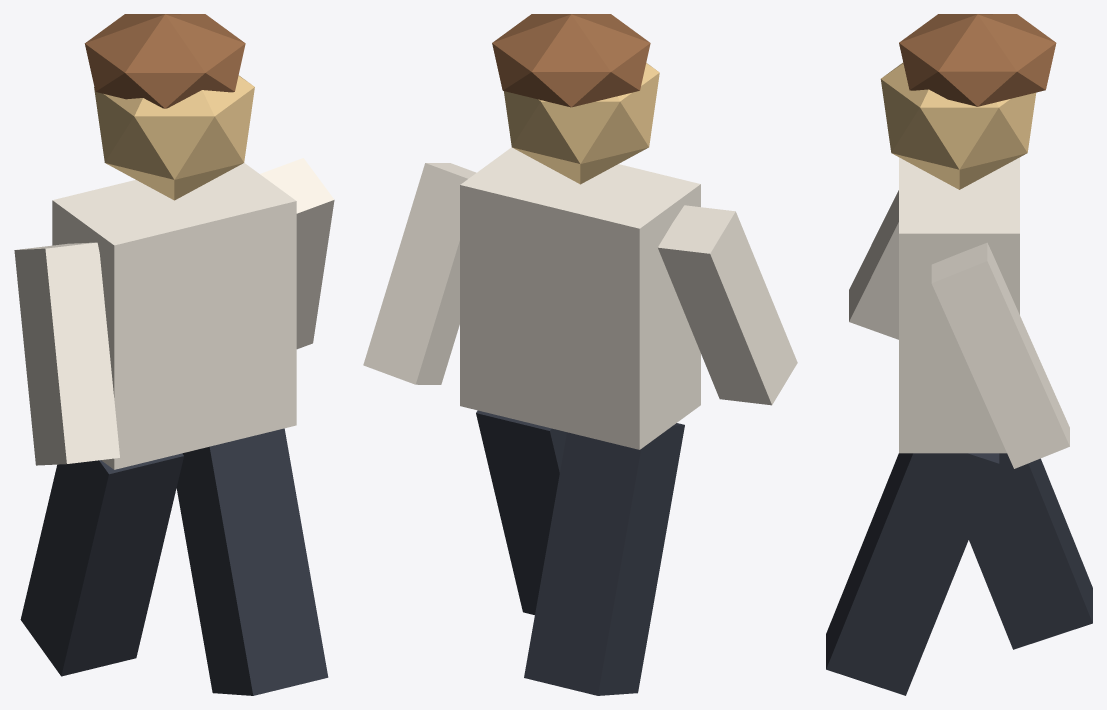
Rendered from people_office_worker.glb.
The picture shows the model from 3 angles, left to right: view 1: azimuth 30°, elevation 25°; view 2: azimuth 150°, elevation 25°; view 3: azimuth 270°, elevation 25°; orthographic projection. The views are drawn at different scales.
Parts seen in each view (by area): view 1: people_office_worker; view 2: people_office_worker; view 3: people_office_worker.
Boxes of the visible parts, x1,y1,x2,y2 form: people_office_worker: (14, 14, 334, 695); people_office_worker: (363, 14, 797, 695); people_office_worker: (826, 14, 1092, 695).
Size of the model in its own units: 0.0621 by 0.1167 by 0.044.
